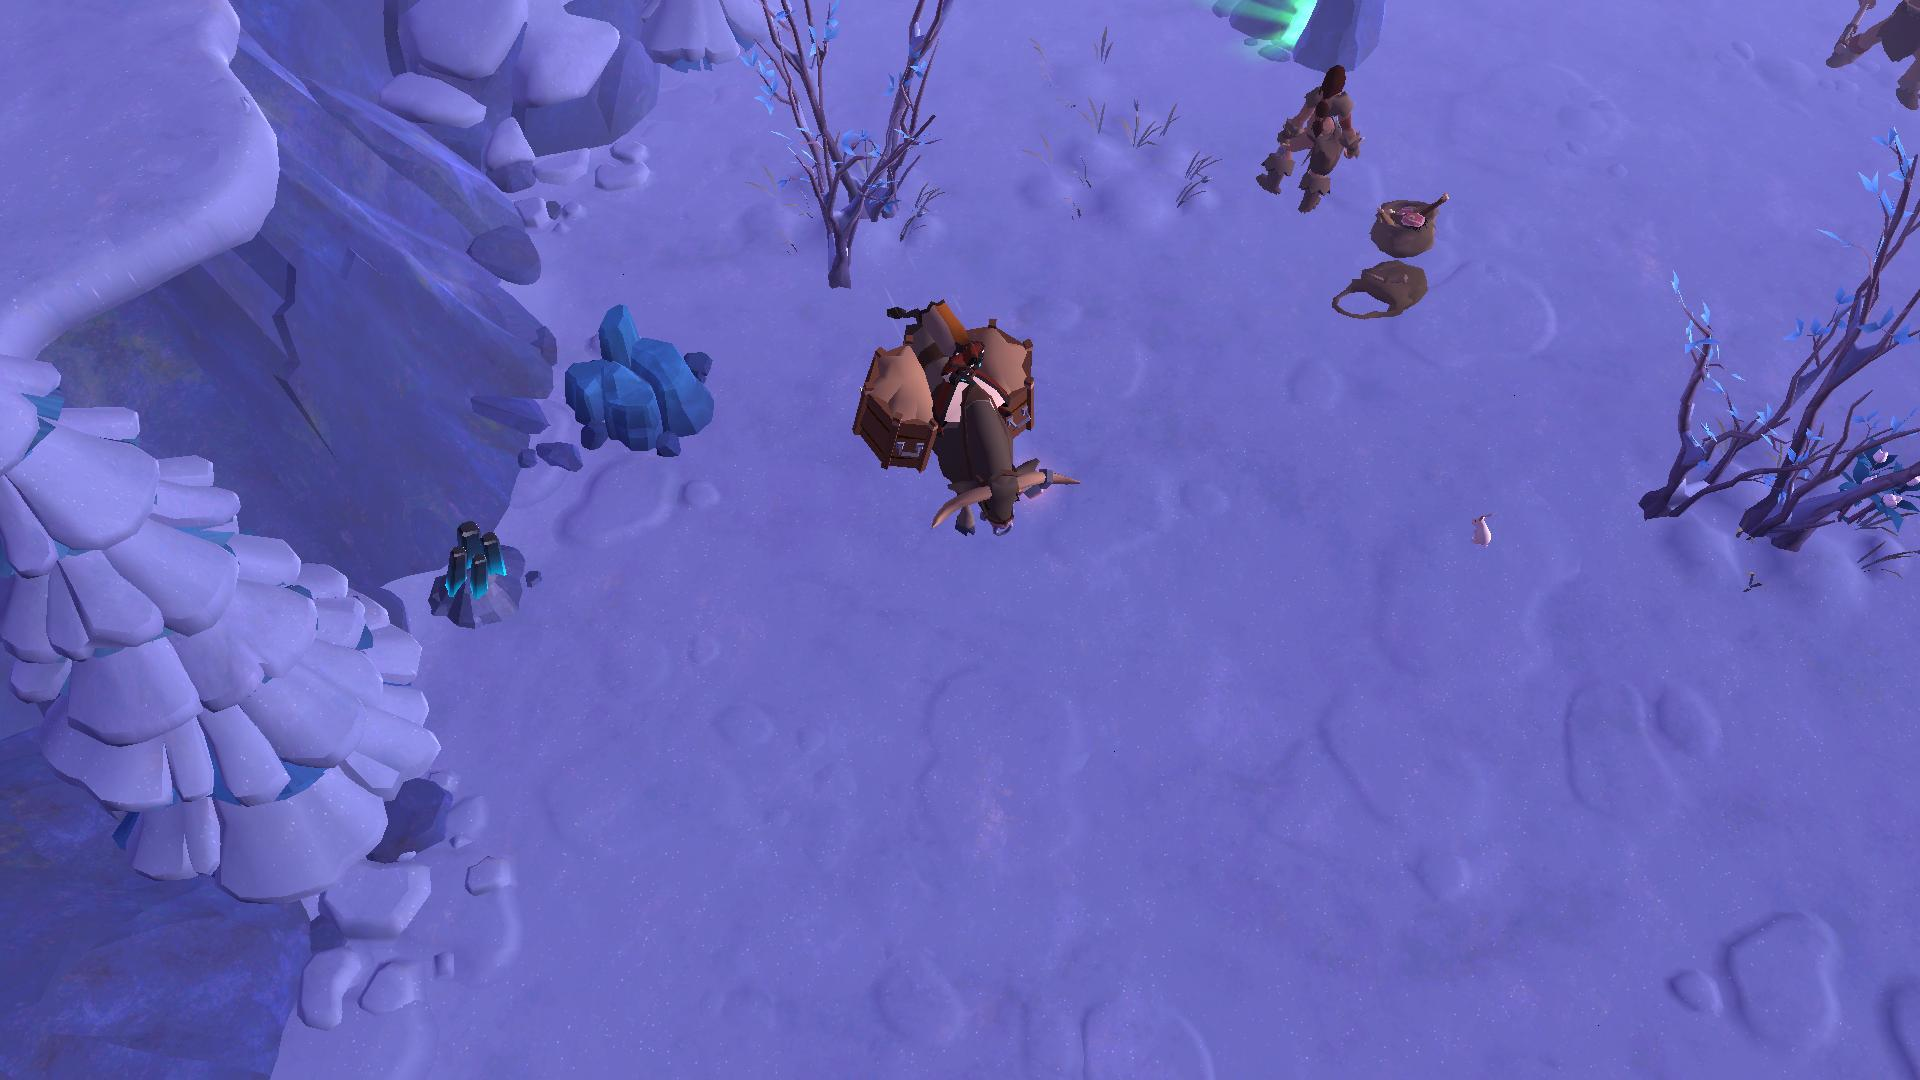enemy_factionKeeper: (1253, 62, 1365, 211), (1824, 0, 1920, 123)
ore_t4: (442, 518, 504, 607)
rock_t4: (558, 309, 723, 450)
